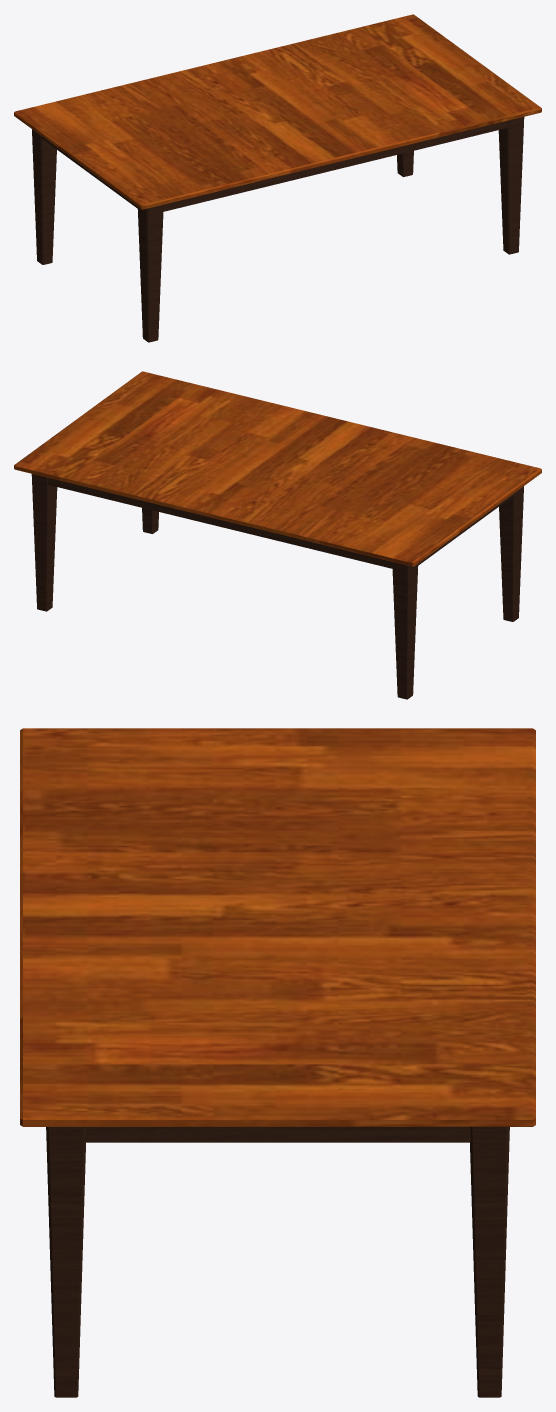
File: Dining_Table_204_1.glb
3 renders of one model, top to bottom at view 1: azimuth 30°, elevation 25°; view 2: azimuth 150°, elevation 25°; view 3: azimuth 270°, elevation 25°, orthographic. The views are drawn at different scales.
Parts seen in each view (by area): view 1: TableMesh; view 2: TableMesh; view 3: TableMesh.
Part boxes in pixels (x1=…): TableMesh: x1=14, y1=14, x2=541, y2=342; TableMesh: x1=14, y1=371, x2=541, y2=699; TableMesh: x1=20, y1=728, x2=535, y2=1397.
Bounding box in the file's own units: 1.82 × 0.6403 × 1.01.
2 materials, 2 textured.
